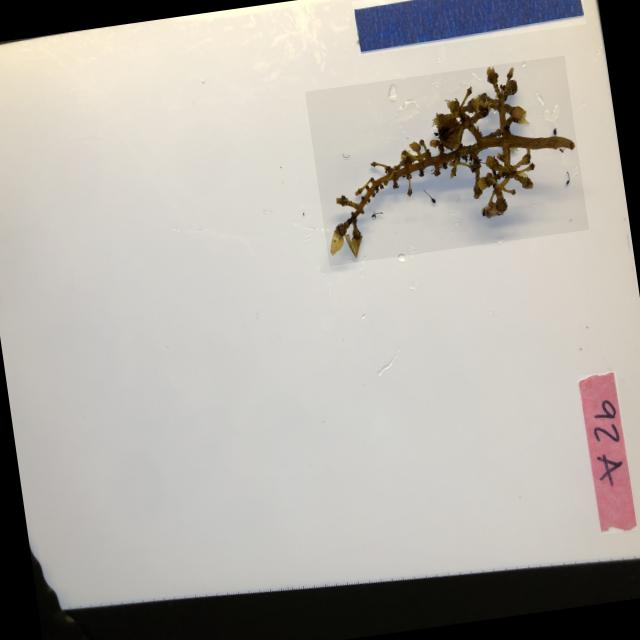index: (578, 370, 638, 536)
measure_label: (351, 0, 585, 56)
rachis_cluster: (304, 56, 588, 266)
